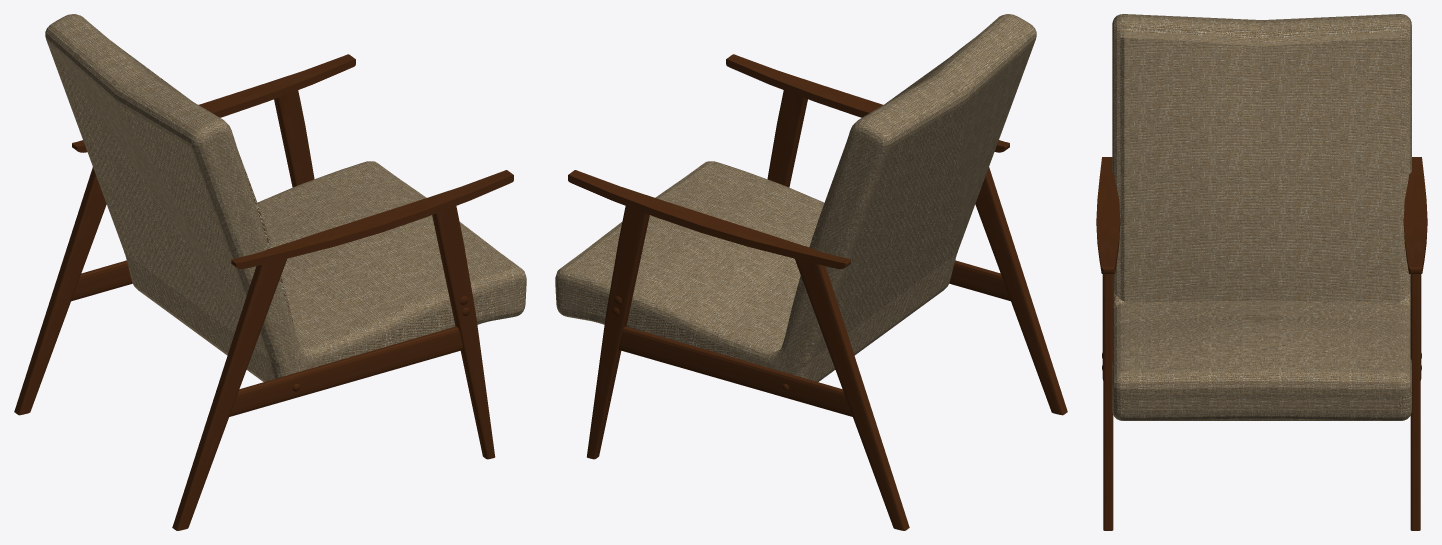
File: Dillion10.glb
3 renders of one model, left to right at view 1: azimuth 30°, elevation 25°; view 2: azimuth 150°, elevation 25°; view 3: azimuth 270°, elevation 25°, orthographic. The views are drawn at different scales.
Visible parts, largest first — view 1: Cylinder.005, Cube.005, Cube.007, Cube.006, Cube.002, Cube.004, Cube.003, Cube.001, Cube; view 2: Cylinder.005, Cube.002, Cube, Cube.001, Cube.005, Cube.003, Cube.004, Cube.006, Cube.007; view 3: Cylinder.005, Cube.006, Cube.001, Cube.004, Cube.003.
Part boxes in pixels (x1,y1,x2,y2): Cylinder.005: (45,14,526,381); Cube.005: (172,259,286,530); Cube.007: (229,326,462,416); Cube.006: (432,206,495,459); Cube.002: (14,167,106,415); Cube.004: (231,170,513,269); Cube.003: (72,54,355,152); Cube.001: (274,90,314,187); Cube: (71,260,132,301); Cylinder.005: (555,14,1036,381); Cube.002: (795,258,909,530); Cube: (619,326,852,416); Cube.001: (587,206,649,459); Cube.005: (975,167,1067,415); Cube.003: (568,170,850,269); Cube.004: (726,54,1009,152); Cube.006: (767,90,807,187); Cube.007: (949,260,1010,301); Cylinder.005: (1112,14,1411,420); Cube.006: (1103,274,1113,530); Cube.001: (1410,274,1420,530); Cube.004: (1096,157,1120,273); Cube.003: (1403,157,1427,273).
Size of the model in its own units: 2.12 by 2.24 by 1.75.
Materials: 2 (2 with a texture image).
